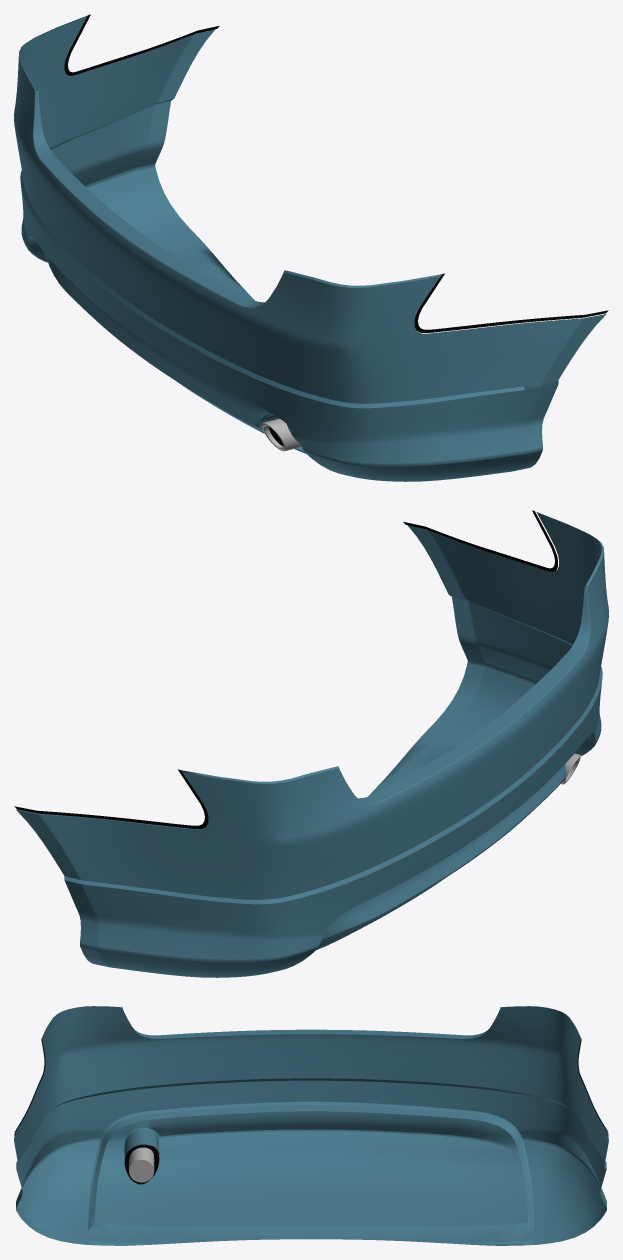
The picture shows the model from 3 angles, top to bottom: view 1: azimuth 30°, elevation 25°; view 2: azimuth 150°, elevation 25°; view 3: azimuth 270°, elevation 25°; orthographic projection. The views are drawn at different scales.
Parts seen in each view (by area): view 1: Y175_18_561G_C_1_DaS_Y175_18_561G_C, Y175_18_561G_C_1_DaS_Y175_18_561G_C_E, Y175_18_561G_C_Y175_18_561G_C_3_D, Y175_18_561G_C_Y175_18_561G_C_2_DaS; view 2: Y175_18_561G_C_1_DaS_Y175_18_561G_C, Y175_18_561G_C_1_DaS_Y175_18_561G_C_E, Y175_18_561G_C_Y175_18_561G_C_3_D; view 3: Y175_18_561G_C_1_DaS_Y175_18_561G_C, Y175_18_561G_C_1_DaS_Y175_18_561G_C_E, Y175_18_561G_C_Y175_18_561G_C_2_DaS, Y175_18_561G_C_Y175_18_561G_C_3_D.
Part boxes in pixels (x1,y1,x2,y2): Y175_18_561G_C_1_DaS_Y175_18_561G_C: (14,17,606,481); Y175_18_561G_C_1_DaS_Y175_18_561G_C_E: (19,15,542,466); Y175_18_561G_C_Y175_18_561G_C_3_D: (65,14,608,445); Y175_18_561G_C_Y175_18_561G_C_2_DaS: (261,418,300,451); Y175_18_561G_C_1_DaS_Y175_18_561G_C: (16,513,608,977); Y175_18_561G_C_1_DaS_Y175_18_561G_C_E: (16,512,603,962); Y175_18_561G_C_Y175_18_561G_C_3_D: (14,510,557,828); Y175_18_561G_C_1_DaS_Y175_18_561G_C: (14,1006,608,1245); Y175_18_561G_C_1_DaS_Y175_18_561G_C_E: (16,1006,608,1230); Y175_18_561G_C_Y175_18_561G_C_2_DaS: (129,1147,154,1182); Y175_18_561G_C_Y175_18_561G_C_3_D: (15,1039,607,1184).
Bounding box in the file's own units: 84.2 × 63.71 × 194.
